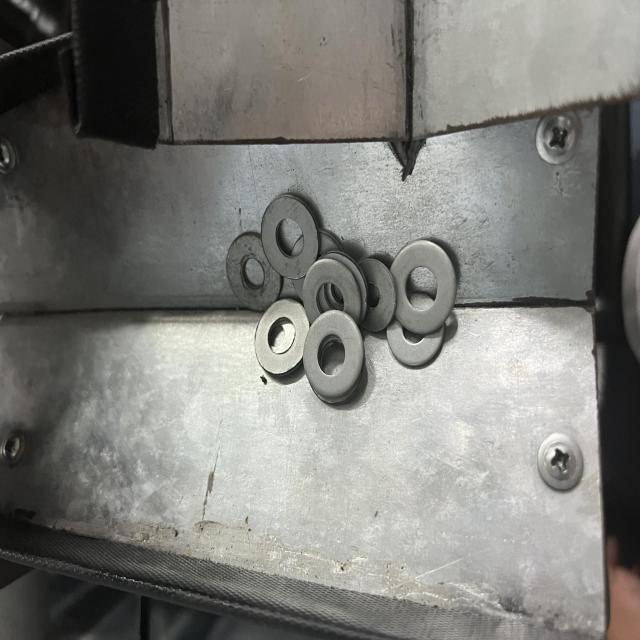washer: (303, 310, 366, 408), (259, 197, 318, 280), (252, 299, 311, 377)
